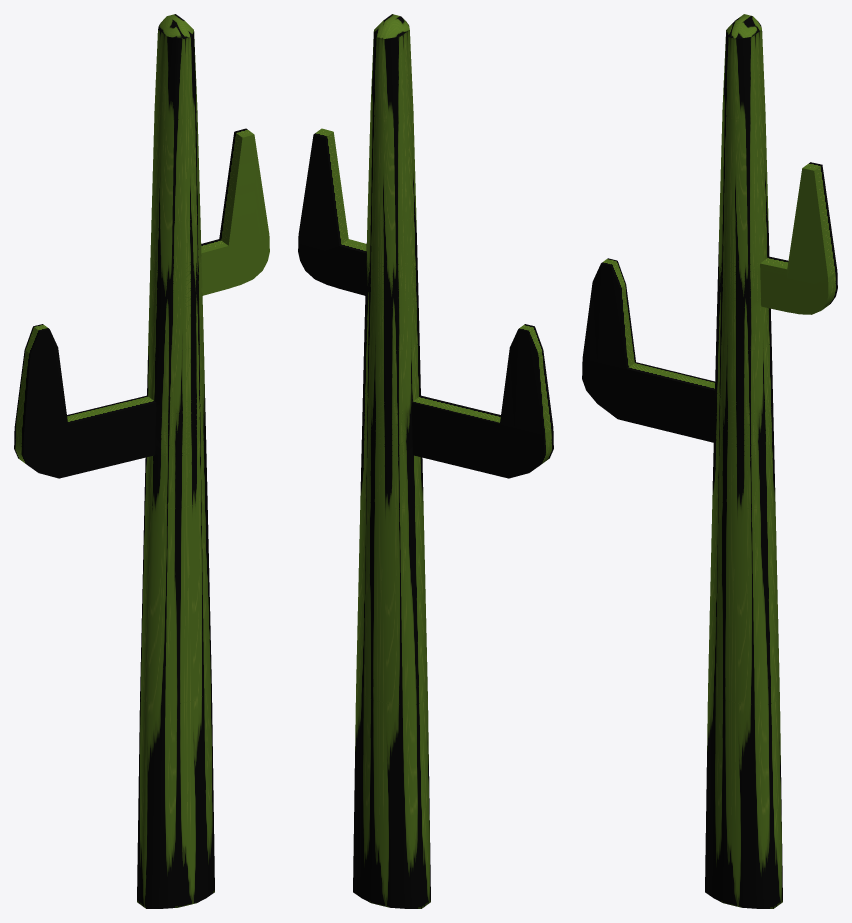
The model's file is cactus.FBX.
3 renders of one model, left to right at view 1: azimuth 30°, elevation 25°; view 2: azimuth 150°, elevation 25°; view 3: azimuth 330°, elevation 25°, orthographic.
Parts seen in each view (by area): view 1: cactus; view 2: cactus; view 3: cactus.
Part boxes in pixels (x1,y1,x2,y2): cactus: [14, 14, 269, 908]; cactus: [298, 14, 553, 908]; cactus: [582, 14, 837, 908].
Bounding box in the file's own units: 305 × 1040 × 49.05.
